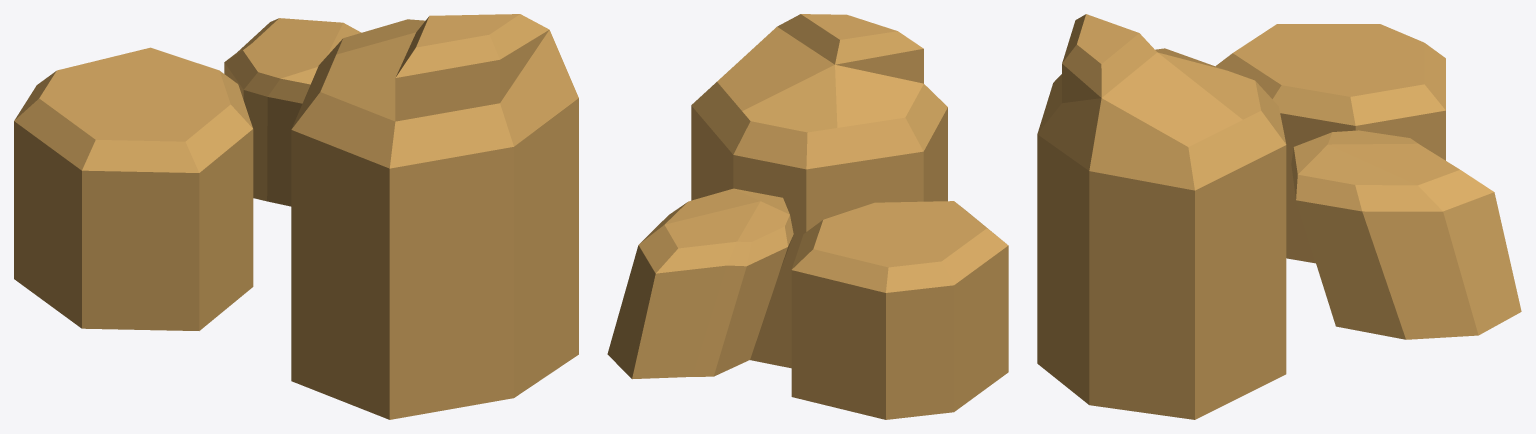
The model's file is Rock_Group_1.glb.
3 views of the same model, side by side, from view 1: azimuth 30°, elevation 25°; view 2: azimuth 150°, elevation 25°; view 3: azimuth 270°, elevation 25° (orthographic). The views are drawn at different scales.
Parts seen in each view (by area): view 1: Rock_Group_1; view 2: Rock_Group_1; view 3: Rock_Group_1.
Boxes of the visible parts, <box> form: Rock_Group_1: <box>14,14,578,419</box>; Rock_Group_1: <box>607,14,1008,419</box>; Rock_Group_1: <box>1037,14,1521,419</box>.
Size of the model in its own units: 5.06 by 3.89 by 5.37.
